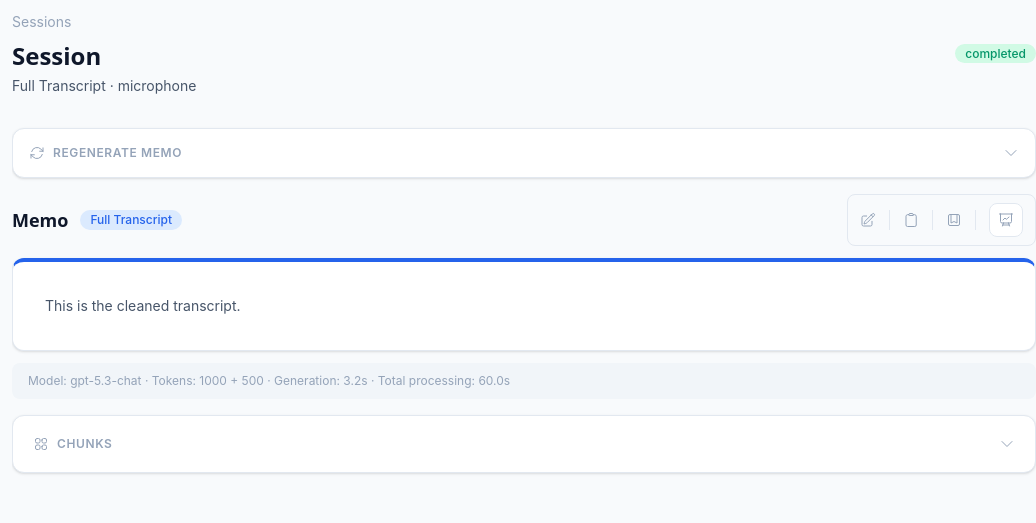
Test: SessionDetailPage › shows session info and chunks after loading
Expected: the text "completed" is shown, [955,44,1035,63]
# Chunks section may be collapsed when memo is present — expand it
Click the button "Chunks": {"x": 85, "y": 444} [33,436,1015,452]
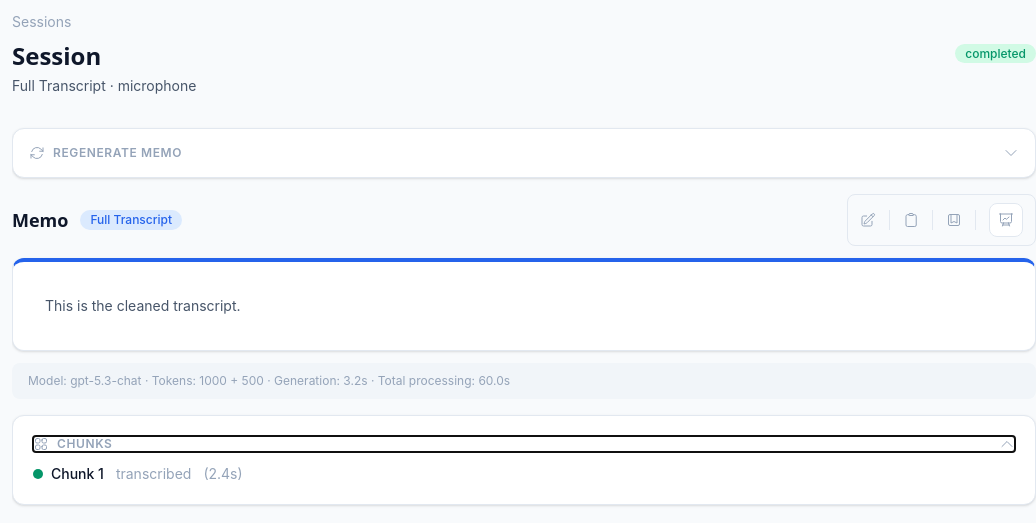
Expected: the text "Chunk 1" is shown, [51,464,104,484]
